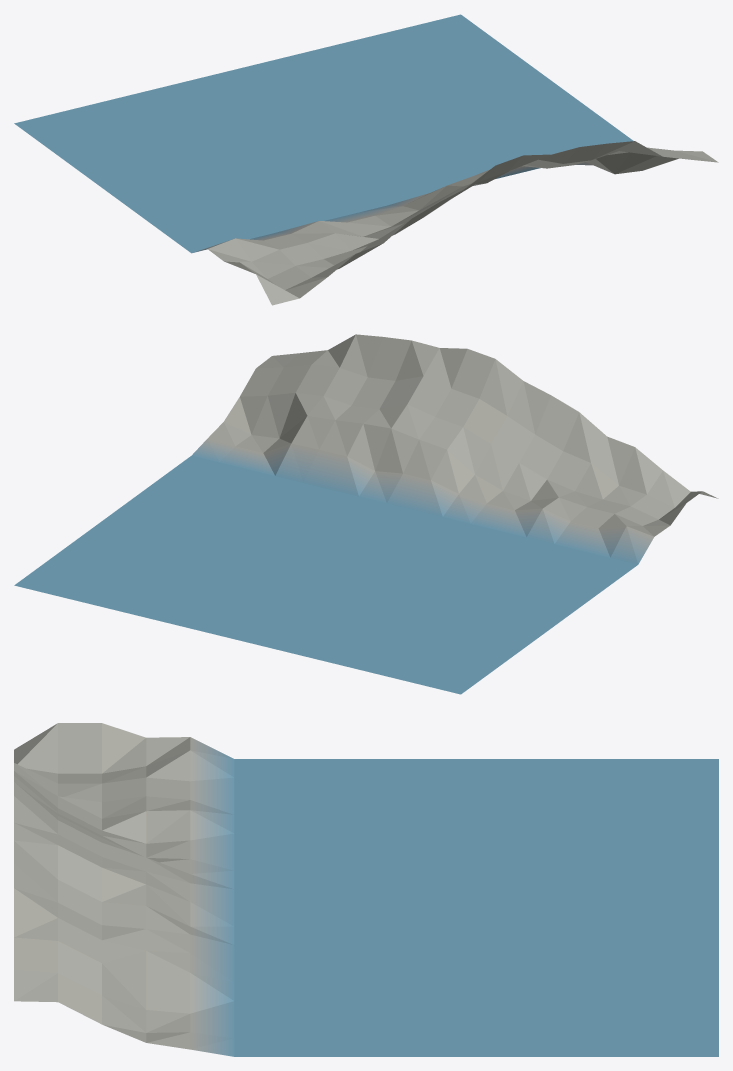
3 views of the same model, one above another, from view 1: azimuth 30°, elevation 25°; view 2: azimuth 150°, elevation 25°; view 3: azimuth 270°, elevation 25° (orthographic). The views are drawn at different scales.
Size of the model in its own units: 32 by 6.54 by 32.
